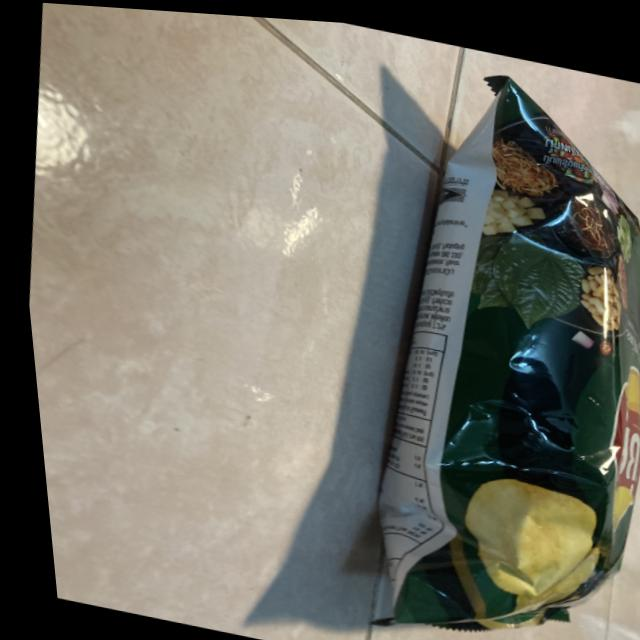Laygreen: (293, 20, 640, 640)
